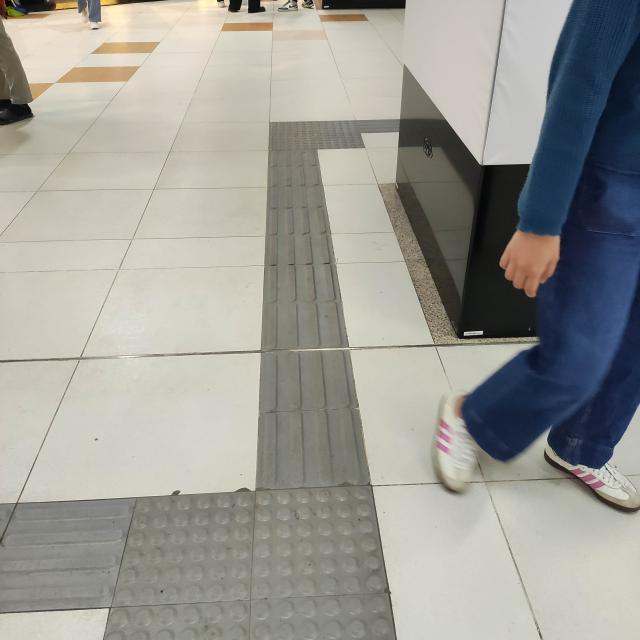kanan: (225, 92, 444, 182)
